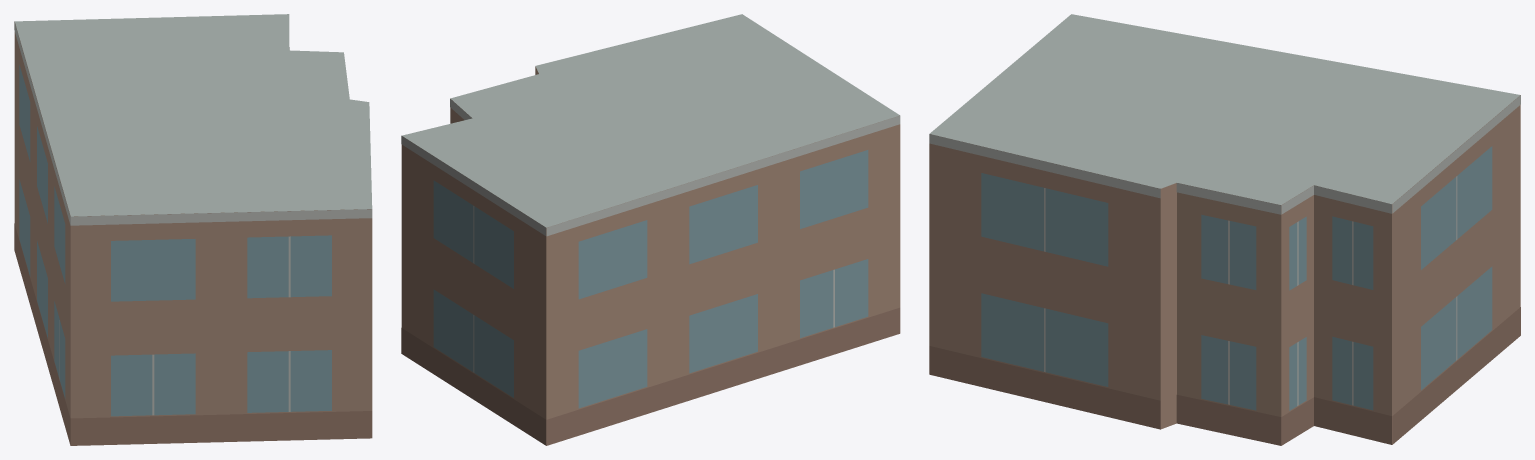
Rendered from survey-upis-32633021.glb.
3 views of the same model, side by side, from view 1: azimuth 30°, elevation 25°; view 2: azimuth 150°, elevation 25°; view 3: azimuth 270°, elevation 25° (orthographic). The views are drawn at different scales.
Visible parts, largest first — view 1: survey-upis-32633021.tmp; view 2: survey-upis-32633021.tmp; view 3: survey-upis-32633021.tmp.
Boxes of the visible parts, x1,y1,x2,y2 form: survey-upis-32633021.tmp: [14, 14, 372, 445]; survey-upis-32633021.tmp: [401, 14, 900, 445]; survey-upis-32633021.tmp: [929, 14, 1520, 445].
Bounding box in the file's own units: 10.4 × 6.1 × 13.59.
